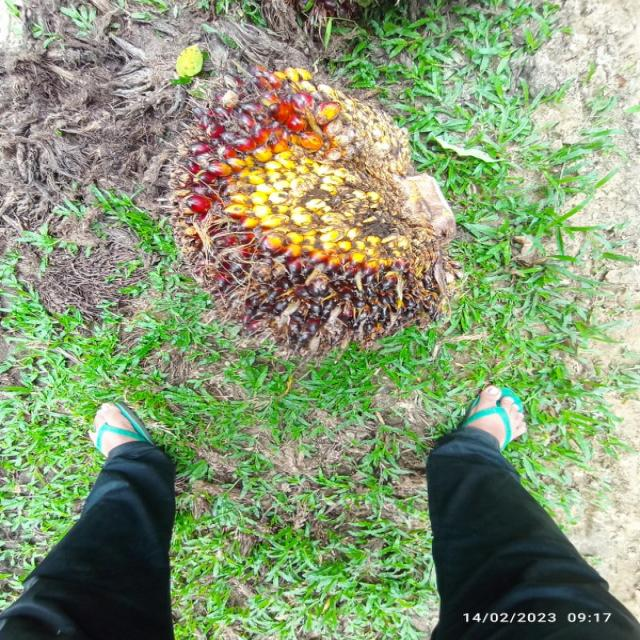fraksi 1: (162, 54, 472, 355)
